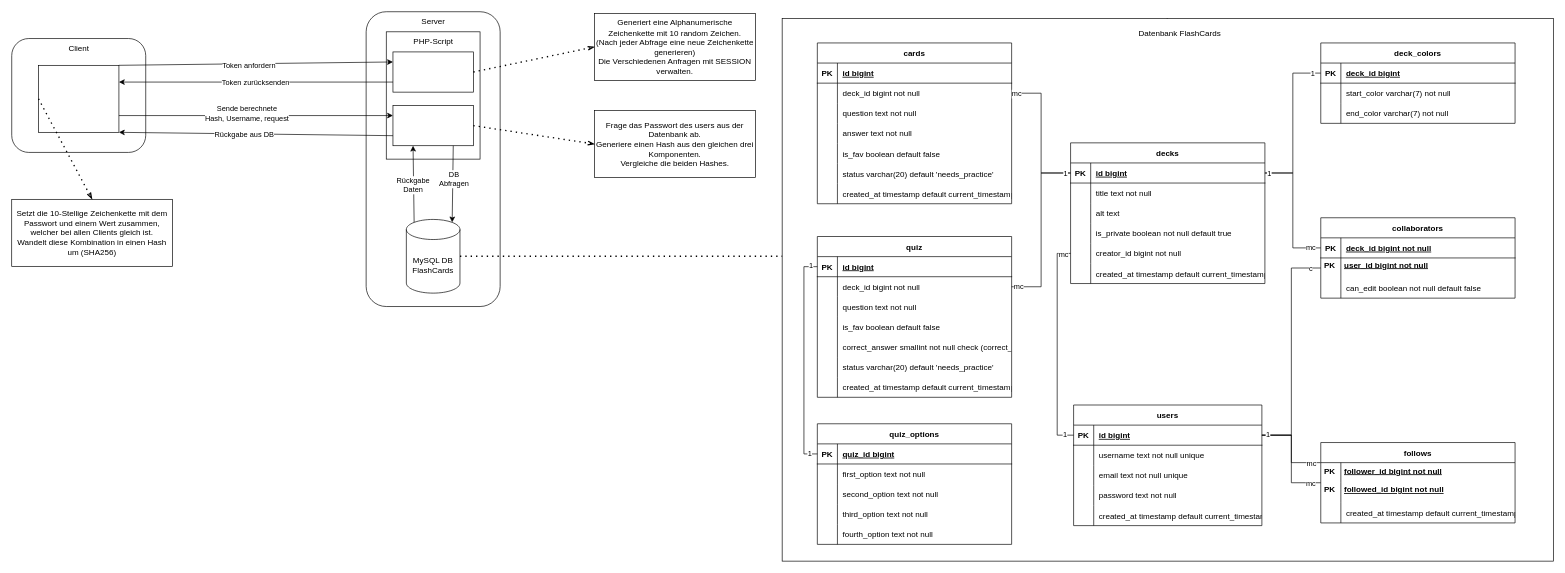
Image size: 1565x573. Some labels were removed from this diagram. Here are the shapes that lost their labels. From the top down, the centre of each, then its label:
the point at 432,71: Authentication
the point at 78,98: C#/WPF/.Net
the point at 432,125: Database Request
